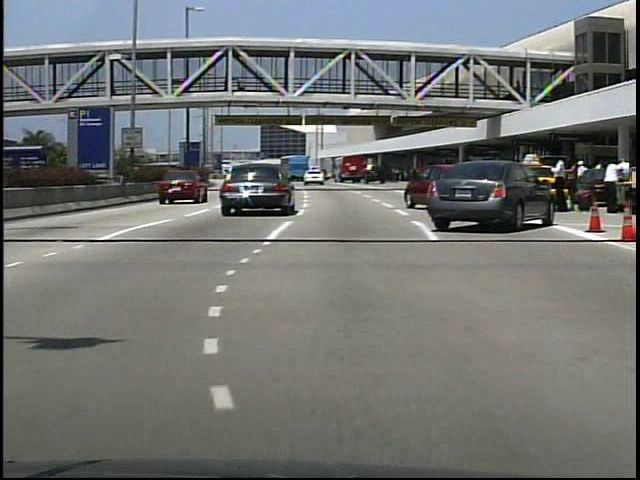person: (545, 154, 568, 215), (598, 160, 622, 213), (572, 159, 591, 211), (221, 69, 233, 95)
